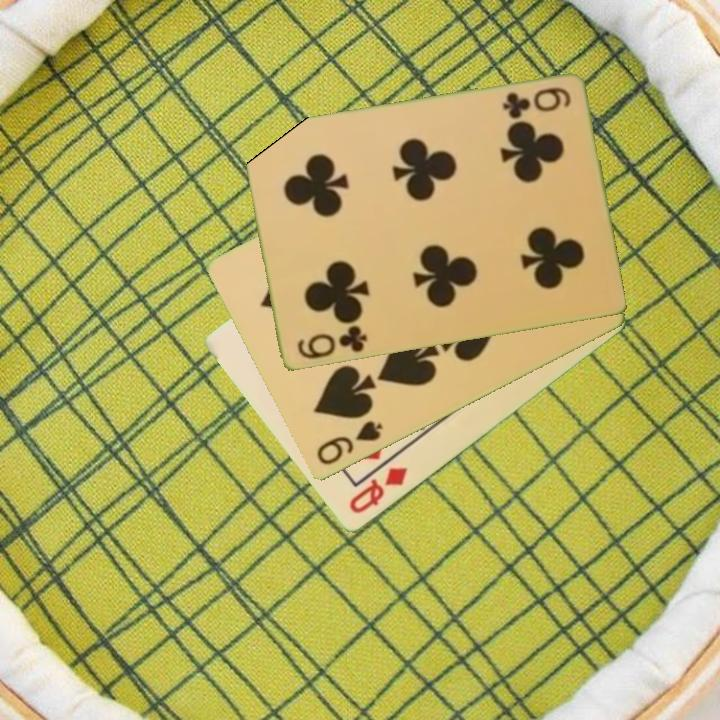6c: (293, 322, 370, 363), (499, 84, 574, 121)
9s: (313, 417, 386, 469)
Qd: (345, 464, 411, 518)
